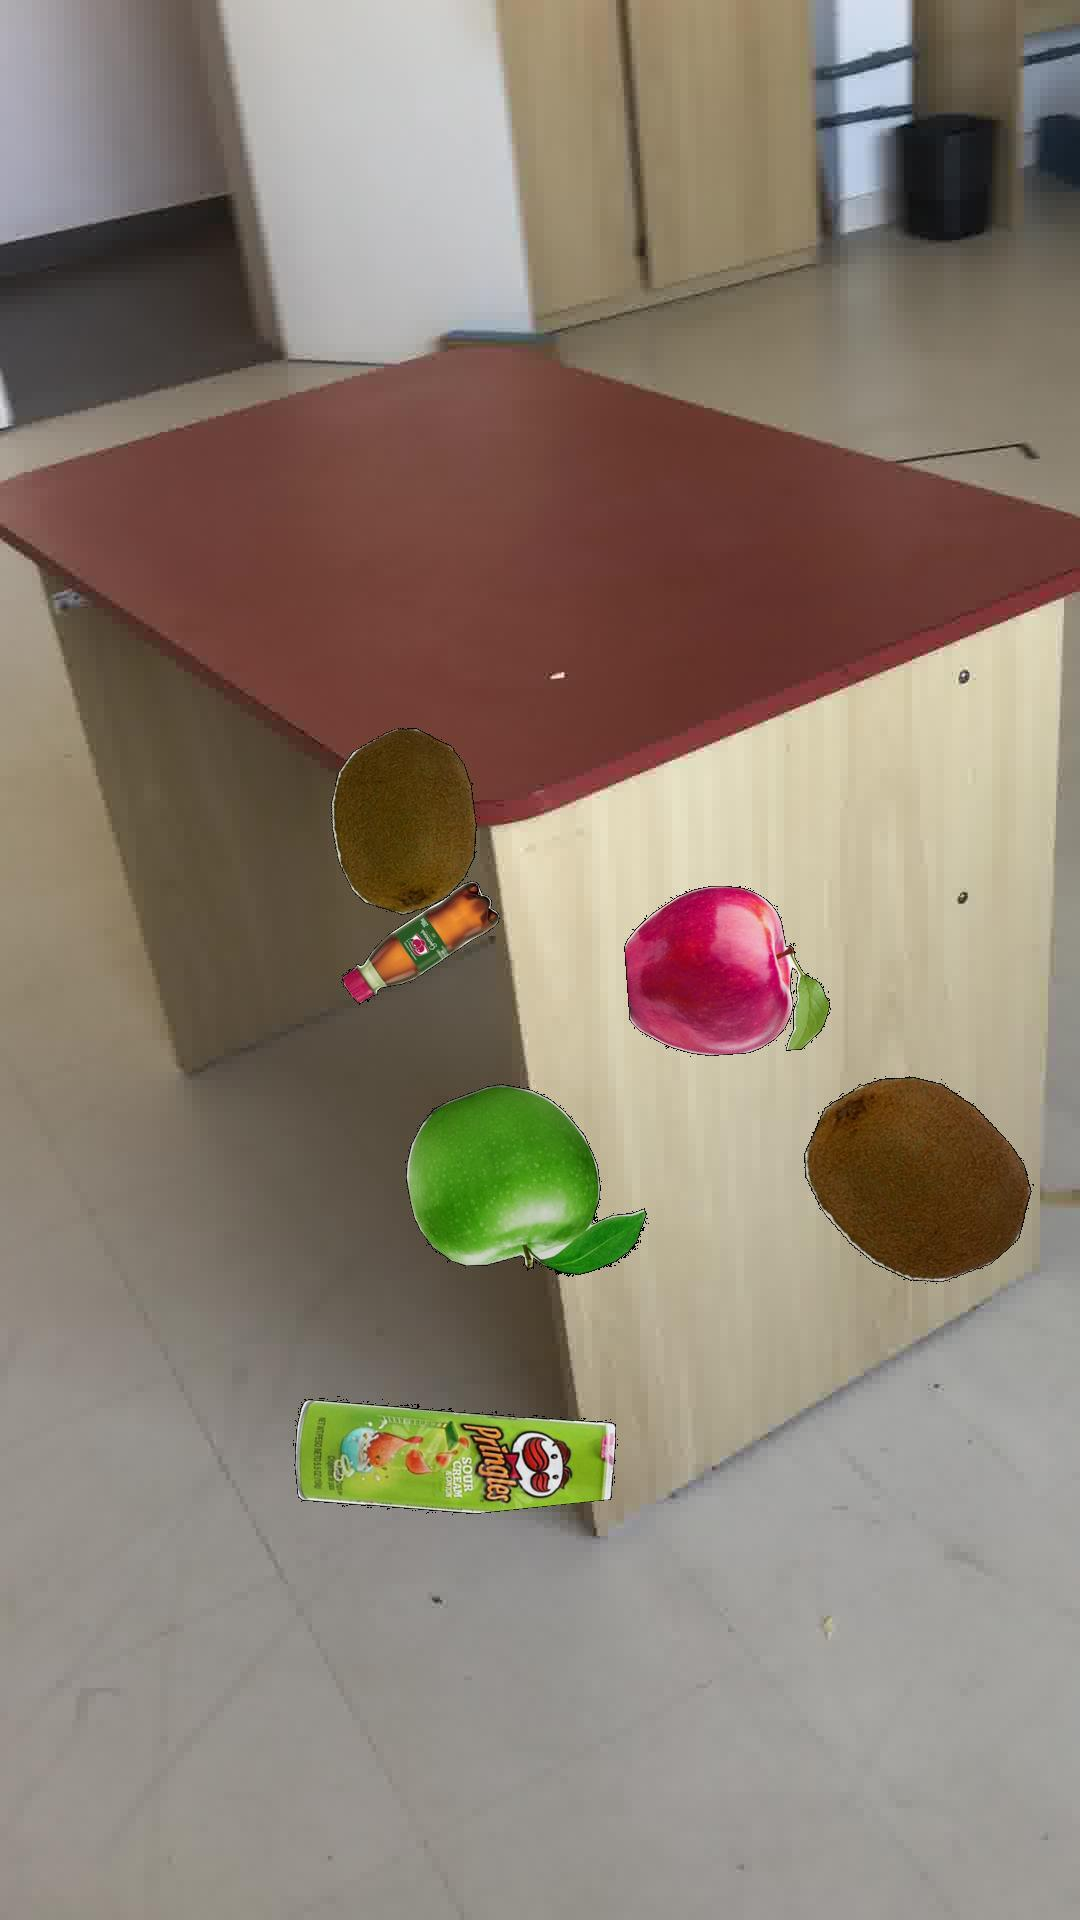apple: (622, 885, 828, 1055)
green apple: (405, 1083, 646, 1275)
guarana: (340, 880, 497, 1004)
kiwi: (803, 1075, 1030, 1280), (330, 727, 476, 914)
pringles: (293, 1398, 615, 1513)
